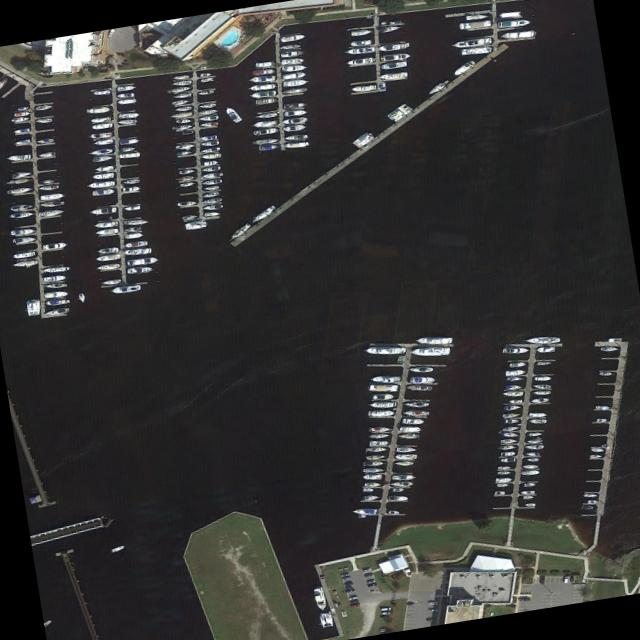ship: (251, 205, 278, 224), (387, 103, 413, 122), (229, 222, 253, 241), (451, 38, 492, 49), (453, 60, 477, 77), (352, 132, 375, 149), (313, 586, 328, 610), (223, 106, 243, 123), (109, 284, 142, 294), (460, 20, 492, 30), (412, 347, 451, 355), (127, 256, 158, 266), (503, 30, 537, 39), (497, 19, 531, 28), (319, 610, 335, 629), (364, 347, 407, 354), (462, 46, 492, 56), (427, 82, 447, 96), (345, 46, 376, 55), (523, 337, 562, 344), (95, 253, 122, 263), (416, 337, 454, 344), (89, 207, 118, 216), (12, 259, 38, 269), (280, 33, 306, 43), (124, 247, 152, 256), (379, 43, 407, 52), (380, 53, 411, 61), (347, 57, 374, 66), (380, 61, 407, 70), (369, 384, 399, 392), (352, 84, 378, 93), (251, 90, 277, 99), (283, 79, 309, 88), (184, 220, 207, 230), (8, 186, 33, 195), (46, 307, 71, 316), (97, 262, 122, 271), (43, 241, 68, 250), (87, 181, 115, 189), (370, 376, 401, 383), (125, 240, 149, 249), (127, 266, 154, 274), (28, 299, 40, 317), (44, 265, 71, 273), (282, 71, 306, 80), (254, 127, 278, 136), (381, 72, 408, 80), (282, 87, 308, 95), (249, 75, 275, 83), (168, 85, 191, 94), (87, 106, 110, 115), (92, 172, 115, 181), (41, 192, 64, 201), (88, 148, 113, 156), (40, 200, 65, 208), (94, 228, 119, 236), (253, 120, 278, 128), (46, 298, 70, 306), (10, 211, 34, 219), (12, 251, 36, 259), (284, 117, 308, 125), (284, 109, 308, 117), (284, 102, 308, 110), (249, 84, 276, 91), (502, 347, 529, 354), (170, 111, 193, 119), (45, 290, 68, 298), (44, 274, 67, 282), (10, 203, 33, 211), (92, 188, 115, 196), (41, 209, 64, 217), (13, 236, 36, 244), (281, 57, 304, 65), (281, 50, 304, 58), (410, 376, 436, 383), (202, 171, 224, 179), (282, 65, 307, 72), (369, 402, 398, 408), (202, 178, 223, 186), (89, 132, 113, 139), (8, 178, 32, 185), (102, 278, 123, 286), (94, 221, 118, 228), (402, 418, 426, 425), (256, 97, 277, 105), (256, 138, 280, 145), (368, 410, 396, 416), (286, 141, 310, 148), (351, 508, 378, 514), (403, 410, 430, 416), (118, 112, 141, 119), (255, 112, 278, 119), (286, 134, 309, 141), (466, 14, 489, 21), (201, 146, 221, 154), (203, 197, 223, 205), (95, 164, 115, 172), (382, 25, 402, 33), (123, 219, 149, 225), (407, 385, 433, 391), (499, 11, 521, 18), (253, 69, 275, 76), (351, 29, 373, 36), (350, 40, 372, 47), (202, 165, 221, 173), (392, 474, 417, 480), (11, 229, 36, 235), (120, 152, 141, 159), (173, 124, 194, 131), (92, 123, 113, 130), (93, 155, 114, 162), (98, 247, 119, 254), (285, 125, 306, 132), (258, 144, 279, 151), (505, 369, 526, 376), (390, 481, 414, 487), (176, 143, 196, 150), (91, 117, 111, 124), (94, 139, 114, 146), (12, 171, 32, 178), (255, 61, 275, 68), (8, 155, 31, 161), (399, 426, 422, 432), (203, 191, 220, 199), (125, 232, 144, 239), (11, 116, 30, 123), (34, 104, 53, 111), (531, 397, 550, 404), (201, 153, 223, 159), (372, 394, 394, 400), (0, 77, 10, 90), (110, 545, 126, 553), (199, 115, 220, 121), (120, 138, 138, 145), (363, 474, 384, 480), (399, 433, 420, 439), (172, 80, 193, 86), (38, 151, 56, 158), (39, 185, 60, 191), (503, 391, 524, 397), (280, 44, 301, 50), (404, 402, 429, 407), (199, 109, 219, 115), (395, 454, 419, 459), (366, 454, 386, 460), (369, 440, 389, 446), (204, 204, 224, 210), (368, 427, 392, 432), (410, 367, 434, 372), (172, 99, 189, 106), (363, 494, 380, 501), (125, 226, 142, 233), (14, 139, 31, 146), (502, 431, 519, 438), (45, 283, 68, 288), (201, 140, 220, 146), (122, 179, 141, 185), (177, 175, 196, 181), (198, 103, 217, 109), (200, 121, 219, 127), (178, 201, 197, 207), (173, 93, 192, 99), (117, 85, 136, 91), (529, 418, 548, 424), (537, 347, 556, 353), (14, 111, 30, 118), (396, 447, 418, 452), (365, 447, 387, 452), (388, 496, 410, 501), (123, 186, 141, 192), (175, 106, 193, 112), (123, 205, 141, 211), (37, 138, 55, 144), (92, 90, 110, 96), (117, 92, 135, 98), (600, 346, 618, 352), (363, 461, 384, 466), (394, 461, 415, 466), (198, 90, 215, 96), (14, 128, 31, 134), (36, 117, 53, 123), (173, 74, 190, 80), (500, 438, 517, 444), (509, 362, 526, 368), (118, 119, 138, 124), (117, 99, 137, 104), (204, 185, 220, 191), (202, 135, 218, 141), (503, 426, 519, 432), (527, 438, 543, 444), (528, 412, 547, 417), (533, 390, 552, 395), (533, 384, 552, 389), (368, 434, 391, 438), (179, 169, 194, 175), (364, 482, 382, 487), (522, 470, 540, 475), (503, 405, 521, 410), (534, 376, 552, 381), (505, 385, 523, 390), (496, 477, 513, 482), (503, 413, 520, 418), (499, 445, 516, 450), (177, 150, 191, 156), (204, 160, 218, 166), (363, 468, 384, 472), (201, 77, 215, 83), (78, 293, 86, 303), (523, 464, 539, 469), (502, 451, 515, 457), (180, 182, 195, 187), (120, 147, 135, 152), (182, 215, 197, 220), (526, 452, 541, 457), (528, 432, 543, 437), (595, 405, 610, 410), (526, 445, 544, 449), (591, 447, 605, 452), (509, 399, 523, 404), (175, 119, 192, 123), (204, 212, 221, 216), (500, 458, 516, 462), (507, 377, 523, 381), (182, 130, 194, 135), (43, 179, 55, 184), (17, 106, 29, 111), (521, 490, 536, 494), (583, 493, 598, 497), (504, 419, 519, 423), (381, 82, 387, 92), (609, 338, 623, 342), (582, 505, 593, 510), (597, 418, 608, 423), (387, 511, 400, 515), (496, 483, 509, 487), (393, 488, 405, 492), (524, 483, 536, 487), (494, 491, 506, 495), (523, 496, 535, 500), (525, 503, 537, 507), (590, 454, 602, 458), (390, 20, 402, 24), (363, 488, 374, 492), (201, 73, 212, 77), (498, 466, 512, 469), (497, 471, 511, 474), (599, 372, 613, 375), (538, 362, 552, 365), (588, 500, 598, 504), (527, 458, 540, 461), (358, 515, 367, 518)
small-vehicle: (107, 29, 116, 38), (350, 604, 361, 609), (346, 588, 356, 593), (341, 576, 351, 581), (381, 607, 391, 612), (368, 582, 378, 587), (367, 579, 377, 584), (363, 568, 373, 573), (564, 576, 570, 584), (341, 573, 350, 578), (350, 596, 359, 601), (540, 576, 545, 584), (351, 600, 359, 605), (427, 618, 437, 622), (365, 573, 375, 577), (430, 608, 439, 612), (570, 576, 575, 583), (345, 586, 353, 590), (429, 602, 438, 605), (382, 612, 390, 615), (345, 583, 353, 586)
